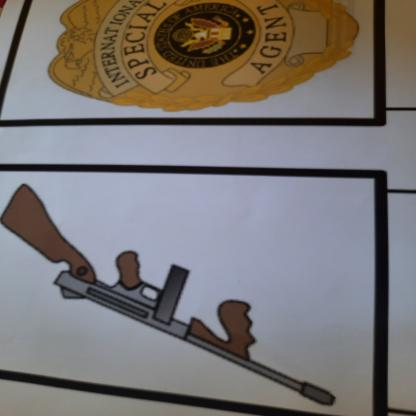Bootlegger: (1, 170, 345, 414)
G-man: (27, 1, 367, 119)
